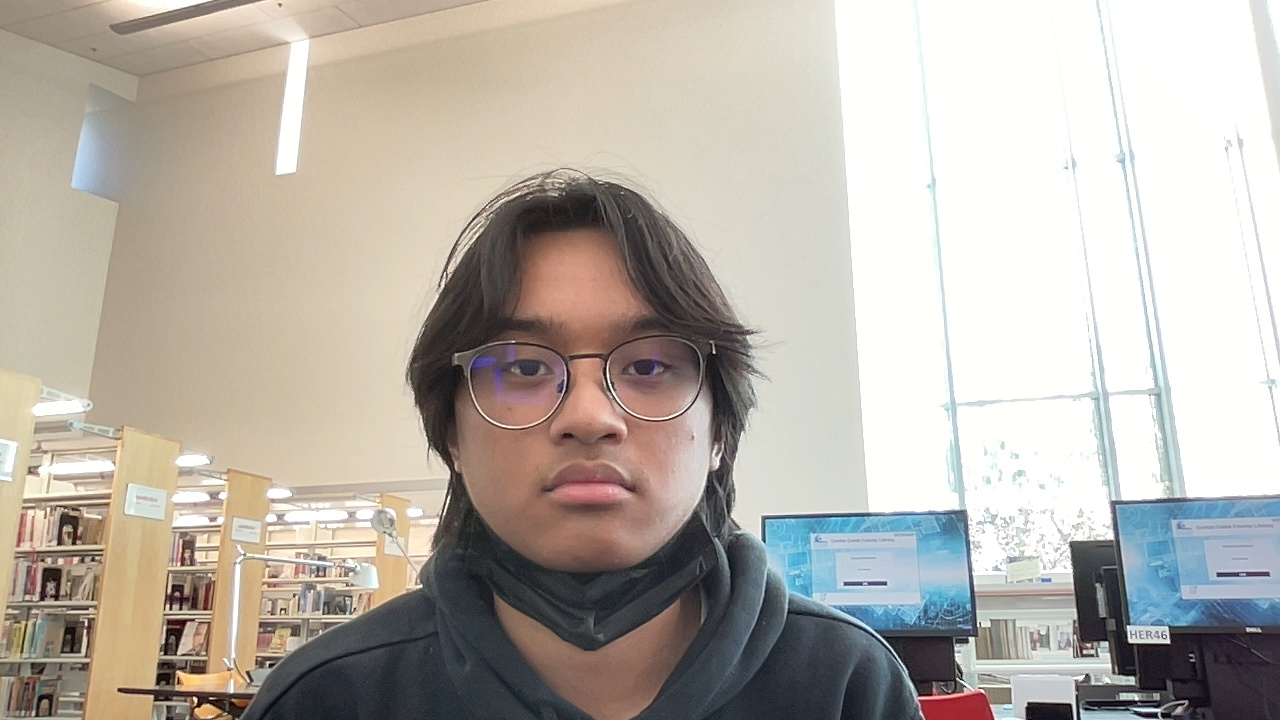neutral: (442, 225, 728, 573)
